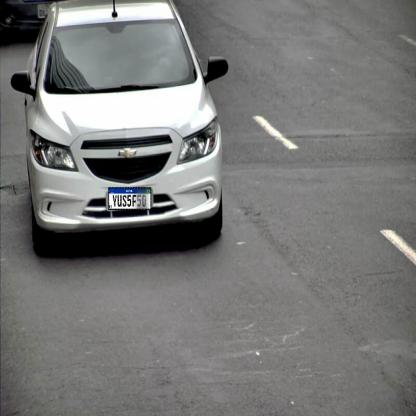PlacaM: (108, 187, 151, 210)
